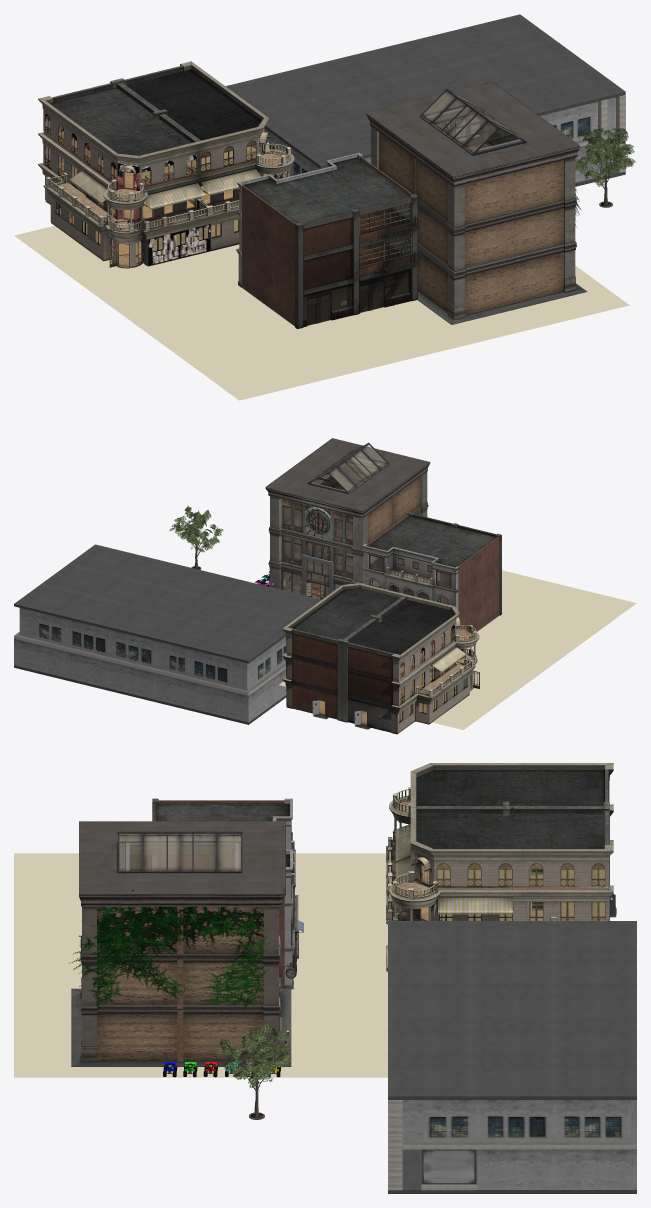
The picture shows the model from 3 angles, top to bottom: view 1: azimuth 30°, elevation 25°; view 2: azimuth 150°, elevation 25°; view 3: azimuth 270°, elevation 25°; orthographic projection. The views are drawn at different scales.
Visible parts, largest first — view 1: Victorian Building Chicago Expo 1 (×11), prim0-mesh_0 (×19), Terrain 12,4, Big warehouse building, prim0-mesh (×7), City Store, CP Young Oak Tree 3; view 2: Big warehouse building, prim0-mesh_0 (×11), Victorian Building Chicago Expo 1 (×15), Terrain 12,4, prim0-mesh (×4), City Store, CP Young Oak Tree 3; view 3: Big warehouse building, Victorian Building Chicago Expo 1 (×13), Terrain 12,4, prim0-mesh_0 (×12), prim0-mesh (×6), CP Young Oak Tree 3, Wall ivy lala.
Part boxes in pixels (x1,y1,x2,y2): Victorian Building Chicago Expo 1 (×11): [366, 81, 587, 324]; prim0-mesh_0 (×19): [38, 61, 294, 267]; Terrain 12,4: [14, 225, 629, 400]; Big warehouse building: [225, 14, 625, 186]; prim0-mesh (×7): [237, 152, 420, 328]; City Store: [242, 185, 383, 326]; CP Young Oak Tree 3: [575, 125, 635, 186]; Big warehouse building: [14, 544, 321, 724]; prim0-mesh_0 (×11): [282, 583, 479, 734]; Victorian Building Chicago Expo 1 (×15): [265, 438, 430, 598]; Terrain 12,4: [265, 570, 636, 729]; prim0-mesh (×4): [362, 512, 501, 615]; City Store: [458, 536, 499, 631]; CP Young Oak Tree 3: [169, 505, 223, 553]; Big warehouse building: [388, 921, 636, 1193]; Victorian Building Chicago Expo 1 (×13): [71, 821, 291, 1066]; Terrain 12,4: [14, 853, 387, 1077]; prim0-mesh_0 (×12): [389, 763, 613, 920]; prim0-mesh (×6): [69, 798, 298, 1007]; CP Young Oak Tree 3: [215, 1023, 291, 1090]; Wall ivy lala: [201, 936, 269, 1008].
Size of what is drawn, in the model's own units: 89.37 by 29.7 by 75.1.
Materials: 331 (327 with a texture image).
